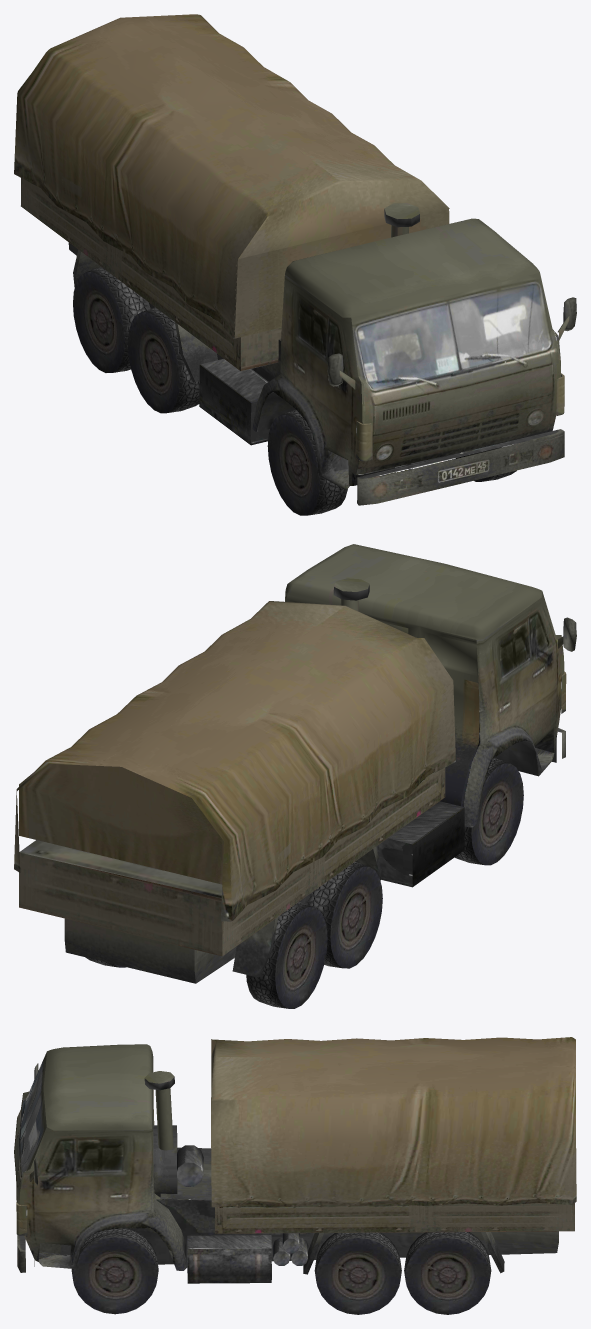
Rendered from 10_kamaz_military.glb.
3 views of the same model, one above another, from view 1: azimuth 30°, elevation 25°; view 2: azimuth 150°, elevation 25°; view 3: azimuth 270°, elevation 25° (orthographic). The views are drawn at different scales.
Visible parts, largest first — view 1: kamaz_LP_64, kamaz_wheel1.003_61, kamaz_wheel1.004_62, kamaz_wheel1.001_59; view 2: kamaz_LP_64, kamaz_wheel1.003_61, kamaz_wheel1.004_62, kamaz_wheel1.001_59; view 3: kamaz_LP_64, kamaz_wheel1.002_60, kamaz_wheel1.005_63, kamaz_wheel1_58.
Boxes of the visible parts, box(x1,y1,x2,y2) form: kamaz_LP_64: box(14, 14, 576, 505); kamaz_wheel1.003_61: box(73, 267, 150, 372); kamaz_wheel1.004_62: box(127, 307, 199, 413); kamaz_wheel1.001_59: box(267, 409, 347, 515); kamaz_LP_64: box(14, 544, 576, 983); kamaz_wheel1.003_61: box(246, 902, 327, 1008); kamaz_wheel1.004_62: box(304, 862, 382, 968); kamaz_wheel1.001_59: box(454, 758, 523, 865); kamaz_LP_64: box(14, 1037, 576, 1283); kamaz_wheel1.002_60: box(404, 1232, 491, 1314); kamaz_wheel1.005_63: box(314, 1232, 401, 1314); kamaz_wheel1_58: box(71, 1228, 158, 1314).
Size of the model in its own units: 2.66 by 2.79 by 6.39.
2 materials, 2 textured.
